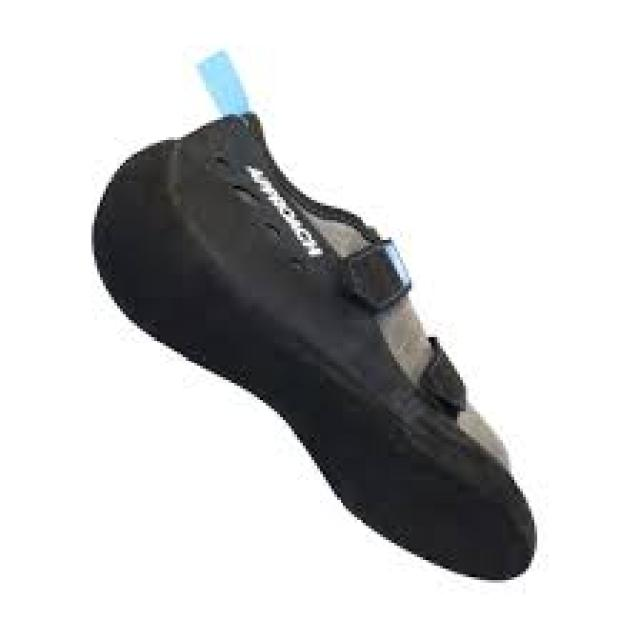climbing-shoes: (85, 46, 540, 583)
